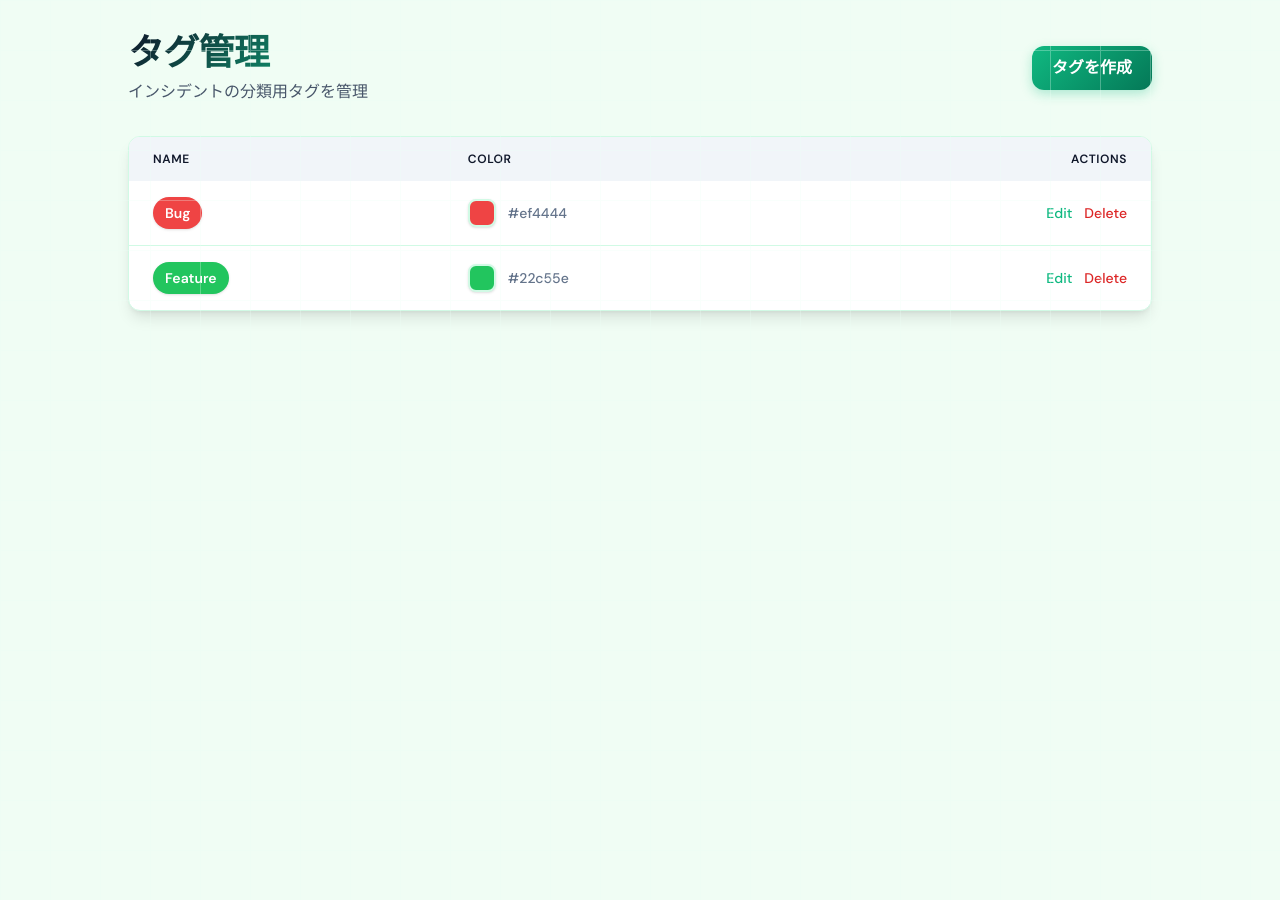
Test case: TagsPage › create tag › opens create modal when button is clicked
Click the button "タグを作成". click: point(1092, 68)
box: x1=1032 y1=46 x2=1152 y2=90
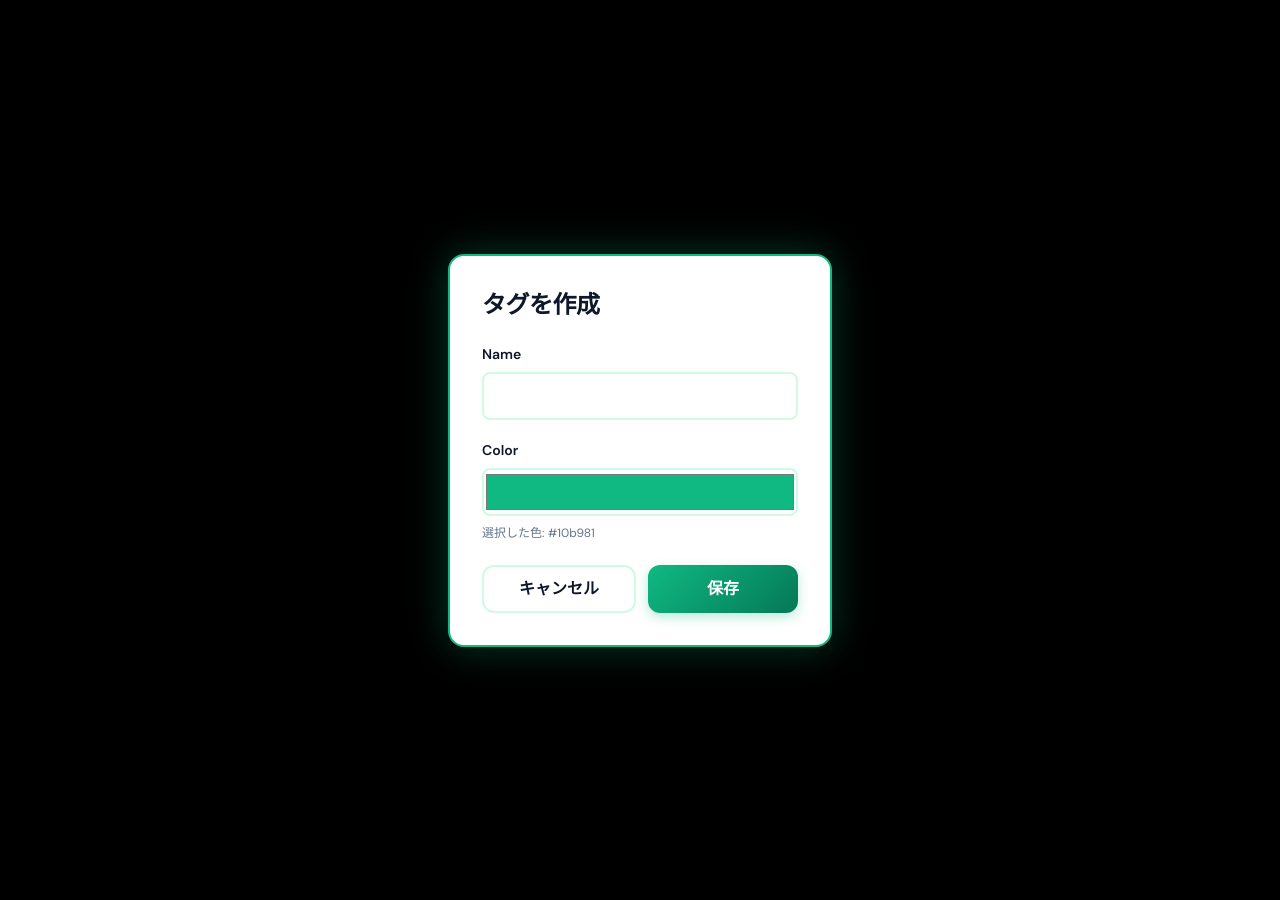
Expected: the heading "タグを作成" is shown, x1=482 y1=288 x2=600 y2=318
